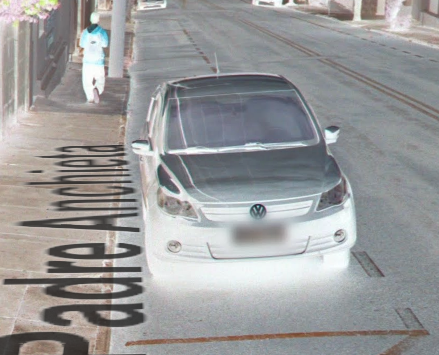car: (127, 49, 369, 282)
